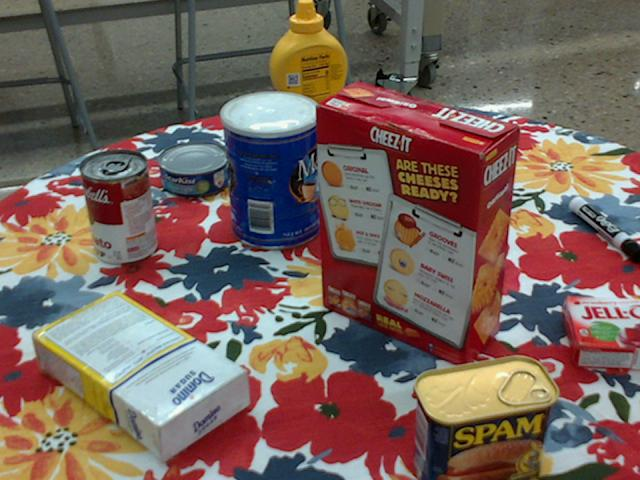cracker_box: (315, 83, 518, 370)
gelatin_box: (561, 296, 639, 367)
large_marker: (568, 195, 639, 259)
master_chef_can: (220, 90, 320, 250)
mug: (405, 116, 486, 199)
mustard_bottle: (269, 0, 348, 158)
potted_meat_can: (414, 355, 559, 479)
sugar_box: (32, 294, 249, 460)
tomato_soup_can: (80, 149, 156, 265)
tuna_fish_can: (158, 141, 231, 196)
